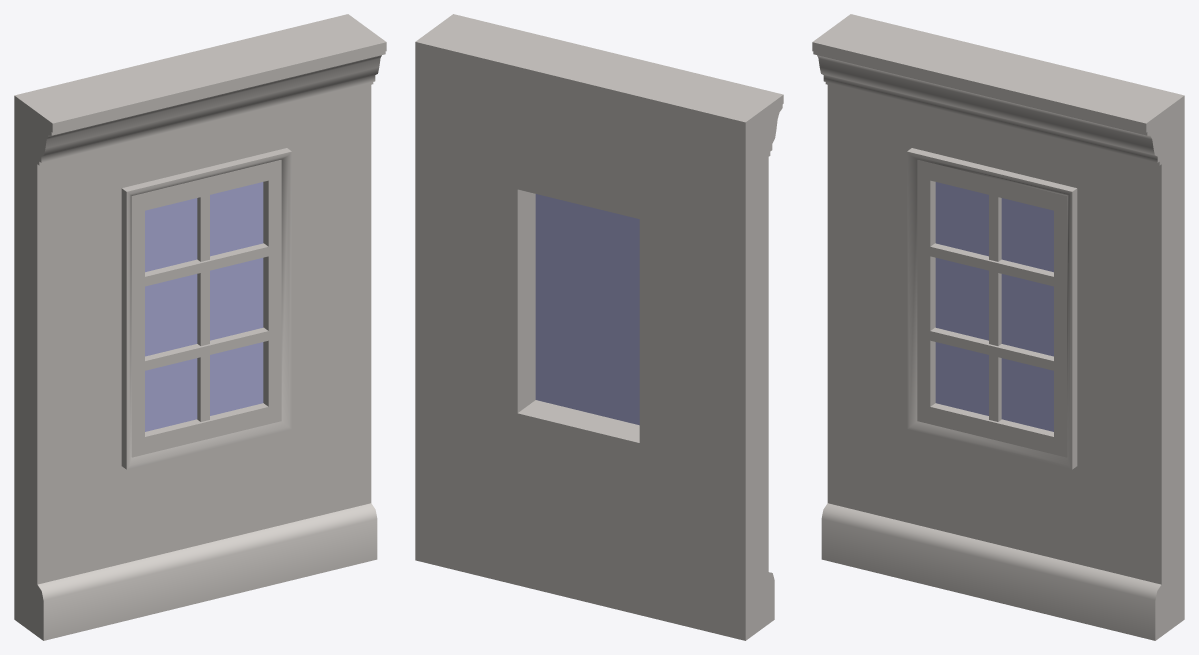
The model's file is SM_WallWindow_3m_x_2m_01.fbx.
3 views of the same model, side by side, from view 1: azimuth 30°, elevation 25°; view 2: azimuth 150°, elevation 25°; view 3: azimuth 330°, elevation 25° (orthographic).
Visible parts, largest first — view 1: Cube.005; view 2: Cube.005; view 3: Cube.005.
Boxes of the visible parts, x1,y1,x2,y2 form: Cube.005: (14,14,386,640); Cube.005: (415,14,783,640); Cube.005: (812,14,1184,640).
Bounding box in the file's own units: 2 × 3 × 0.4179.
